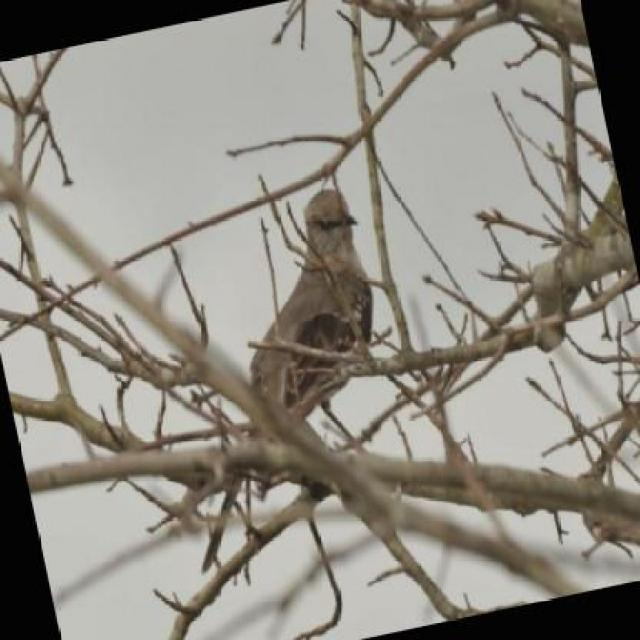Bird: (291, 191, 364, 408)
